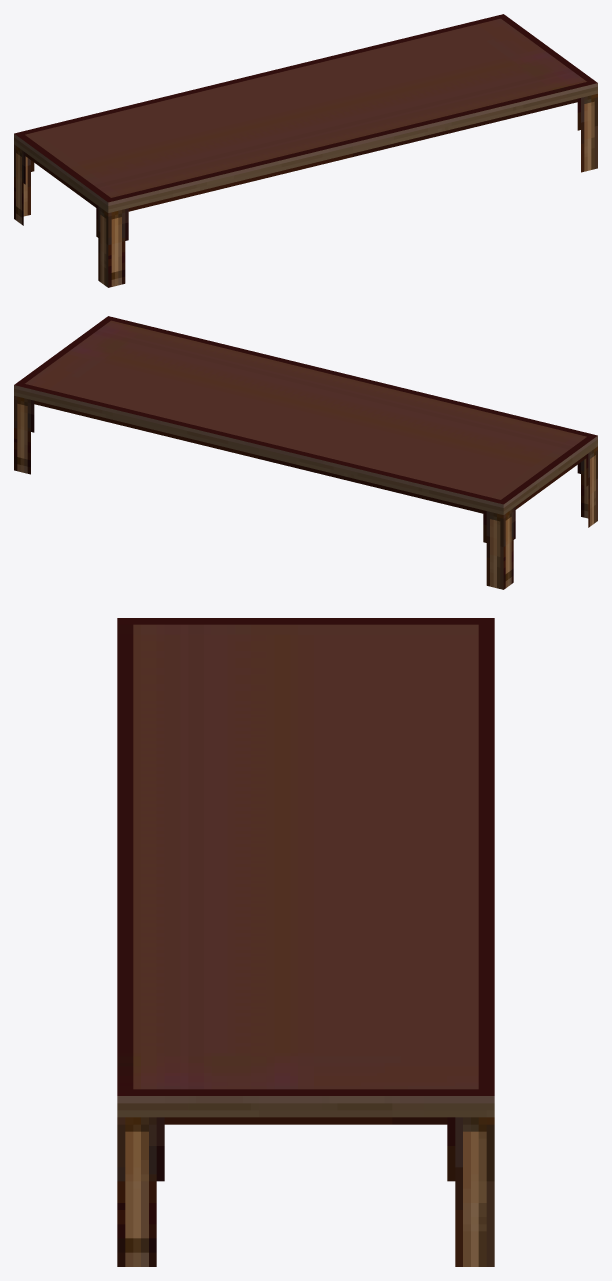
Rendered from desk.glb.
The picture shows the model from 3 angles, top to bottom: view 1: azimuth 30°, elevation 25°; view 2: azimuth 150°, elevation 25°; view 3: azimuth 270°, elevation 25°; orthographic projection. The views are drawn at different scales.
Visible parts, largest first — view 1: Desk; view 2: Desk; view 3: Desk.
Boxes of the visible parts, left/top/right/bottom form: Desk: left=14, top=14, right=597, bottom=287; Desk: left=14, top=316, right=597, bottom=589; Desk: left=117, top=618, right=494, bottom=1266.
Bounding box in the file's own units: 6 × 1 × 2.
Materials: 1 (1 with a texture image).
